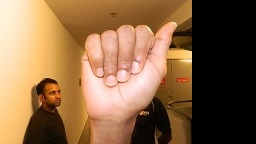Pugno: (71, 16, 182, 125)
